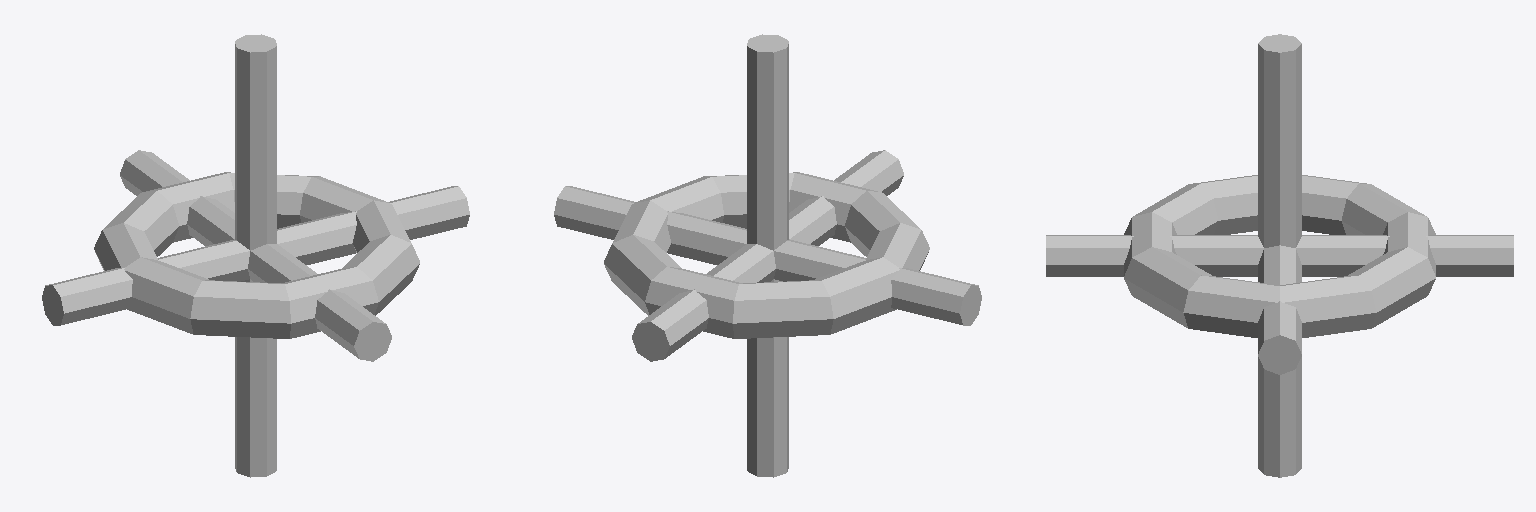
File: hua2.obj
The picture shows the model from 3 angles: view 1: azimuth 30°, elevation 25°; view 2: azimuth 150°, elevation 25°; view 3: azimuth 270°, elevation 25°; orthographic projection.
Visible parts, largest first — view 1: polySurface5; view 2: polySurface5; view 3: polySurface5.
Part boxes in pixels (x1,y1,x2,y2): polySurface5: (42,34,469,477); polySurface5: (554,34,981,477); polySurface5: (1046,34,1513,477).
Bounding box in the file's own units: 6.28 × 6.28 × 6.28.